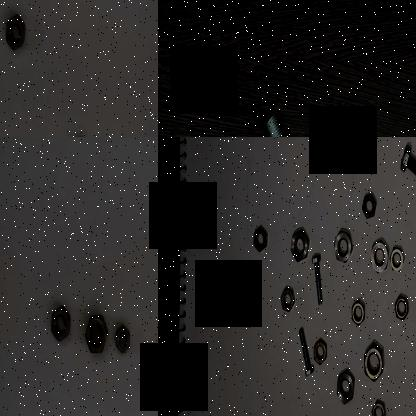Bolts: (395, 137, 416, 196), (293, 324, 315, 378), (262, 103, 294, 137), (307, 252, 323, 308)
NUTS: (0, 2, 28, 64), (360, 339, 388, 385), (83, 310, 107, 358), (46, 301, 72, 343), (332, 366, 358, 408), (332, 224, 354, 267), (286, 226, 310, 263), (366, 236, 388, 276), (112, 319, 131, 361), (249, 222, 272, 256), (310, 332, 331, 368), (393, 288, 412, 325), (348, 296, 368, 330), (358, 186, 378, 220), (276, 284, 296, 312), (368, 392, 388, 416), (390, 244, 404, 272)
